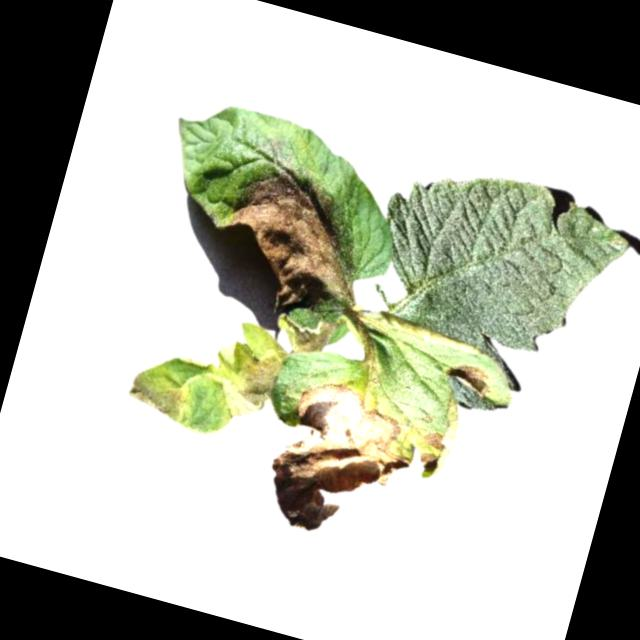Late_blight: (255, 371, 426, 552), (206, 155, 383, 329), (210, 339, 285, 423), (122, 367, 192, 425), (272, 306, 344, 362), (442, 358, 495, 398), (414, 449, 443, 475), (420, 426, 449, 451)
healthy: (356, 146, 637, 378)
